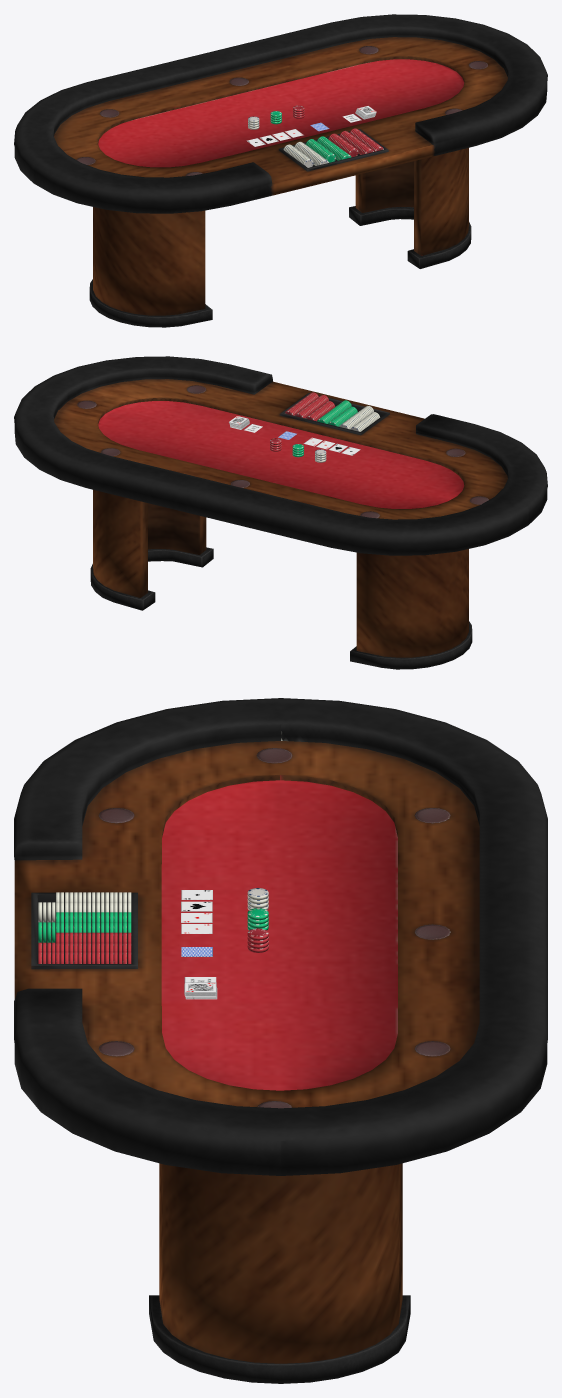
3 renders of one model, top to bottom at view 1: azimuth 30°, elevation 25°; view 2: azimuth 150°, elevation 25°; view 3: azimuth 270°, elevation 25°, orthographic. The views are drawn at different scales.
Parts seen in each view (by area): view 1: Object_2; view 2: Object_2; view 3: Object_2.
Boxes of the visible parts, x1,y1,x2,y2 form: Object_2: [14, 14, 547, 327]; Object_2: [14, 356, 547, 669]; Object_2: [14, 698, 547, 1383].
Size of the model in its own units: 2.93 by 0.9328 by 1.48.
Materials: 1 (1 with a texture image).
